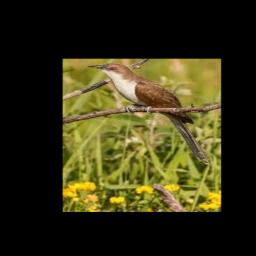Cuckoo: (87, 63, 211, 164)
